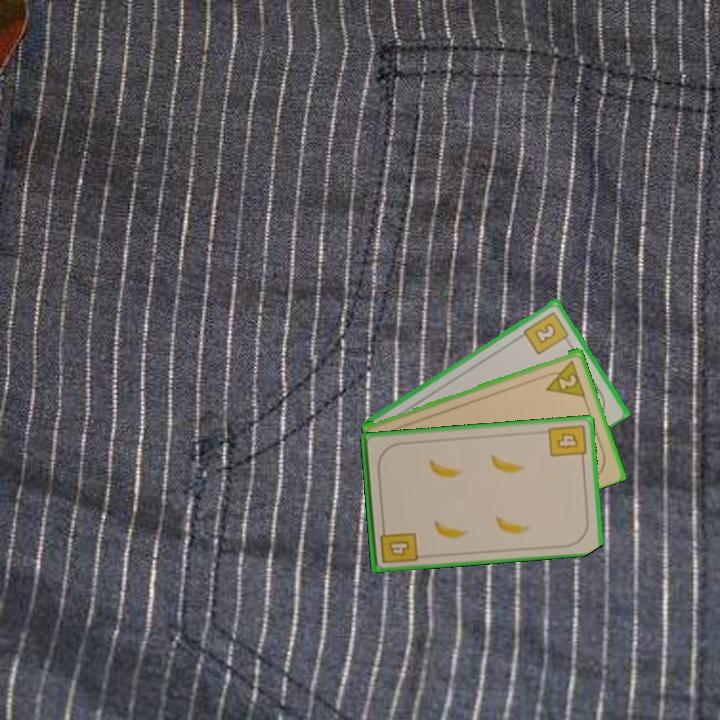2b: (520, 308, 573, 357)
2p: (539, 356, 588, 399)
4b: (376, 522, 420, 566), (545, 421, 589, 464)
